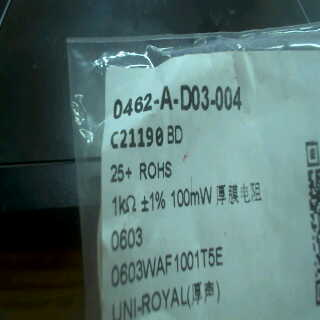1kR: (110, 191, 137, 218)
